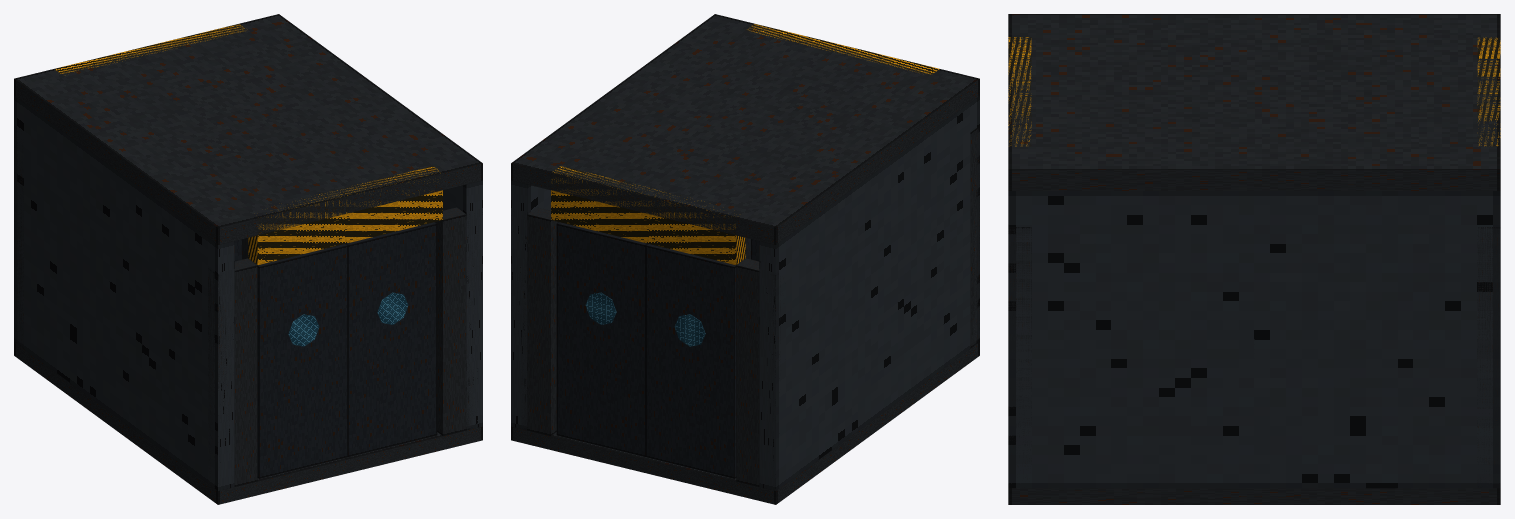
File: airlock_chamber.glb
3 renders of one model, left to right at view 1: azimuth 30°, elevation 25°; view 2: azimuth 150°, elevation 25°; view 3: azimuth 270°, elevation 25°, orthographic. The views are drawn at different scales.
Visible parts, largest first — view 1: airlock_chamber; view 2: airlock_chamber; view 3: airlock_chamber.
Part boxes in pixels (x1,y1,x2,y2): airlock_chamber: (14,14,482,504); airlock_chamber: (511,14,979,504); airlock_chamber: (1008,14,1500,504).
Bounding box in the file's own units: 2.4 × 2.4 × 3.2.
Materials: 1 (1 with a texture image).
